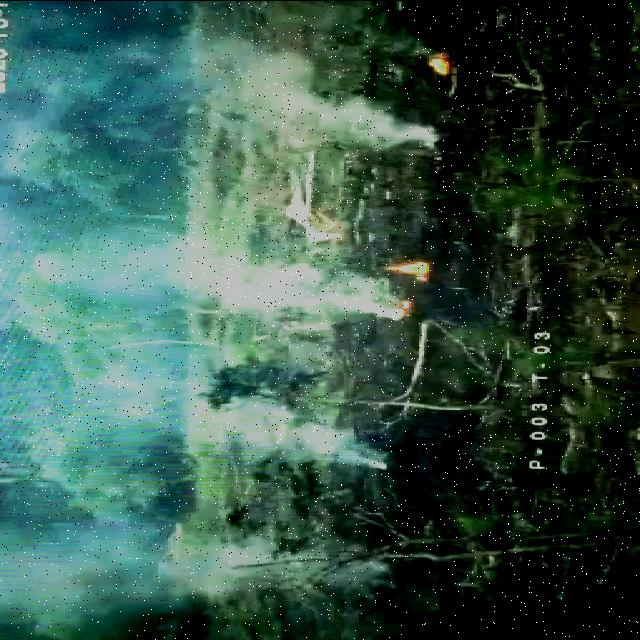asap: (1, 38, 453, 176), (1, 208, 430, 346), (1, 521, 410, 627), (147, 385, 413, 491), (229, 1, 470, 61)
